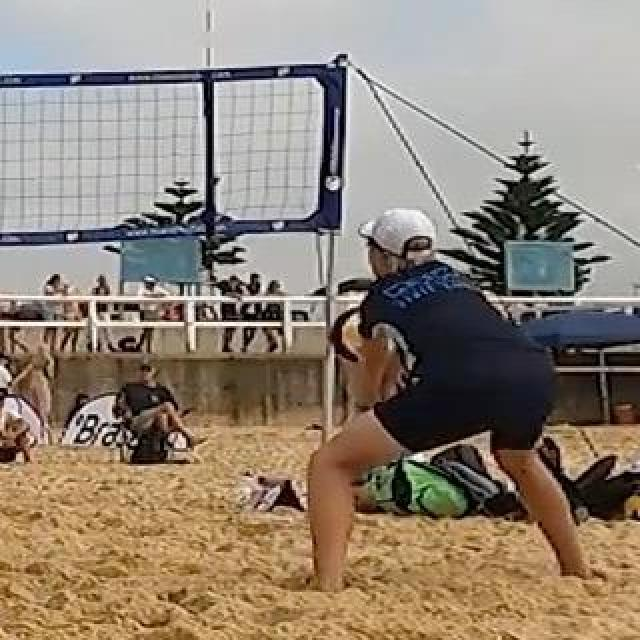volleyball: (330, 304, 386, 364)
